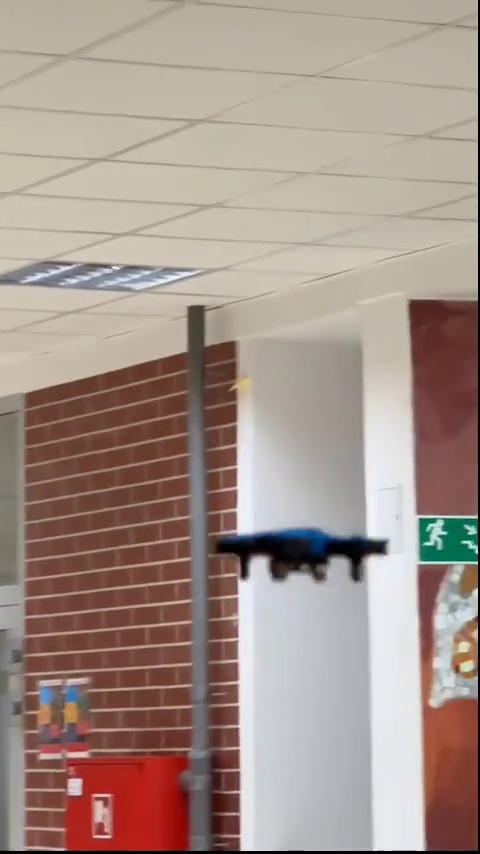drone: (216, 527, 385, 586)
